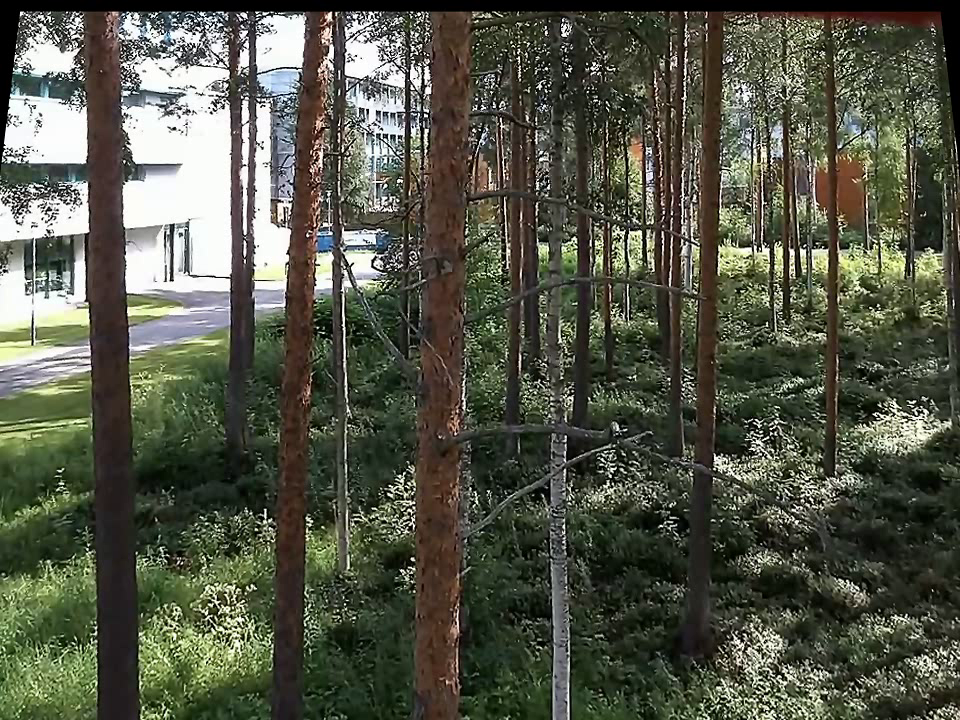branch: (460, 413, 821, 533), (466, 425, 652, 535), (466, 268, 710, 334), (472, 181, 703, 250), (469, 101, 549, 138)
trunk: (257, 16, 342, 712), (70, 23, 147, 717), (407, 16, 466, 716), (544, 22, 580, 716), (544, 31, 575, 711), (689, 18, 719, 653), (565, 25, 607, 469), (221, 22, 256, 451), (819, 32, 852, 486), (774, 25, 801, 327)
